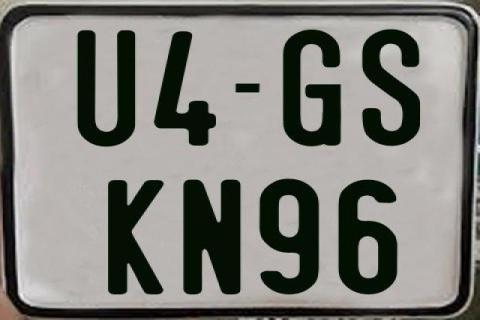0: (152, 31, 219, 148), (259, 177, 322, 295), (336, 177, 397, 297)
G: (281, 30, 341, 148)
K: (105, 178, 163, 296)
N: (180, 179, 239, 297)
S: (362, 26, 422, 146)
U: (74, 28, 134, 144)
